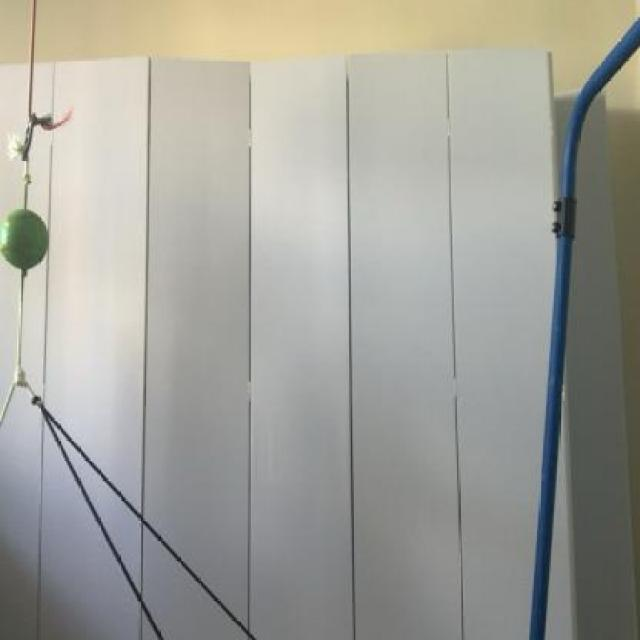baseball: (0, 197, 58, 284)
